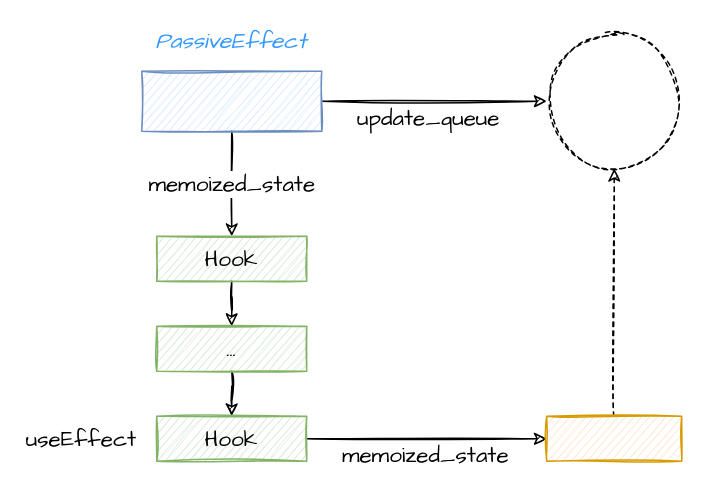
Image size: 708x495. Some labels were removed from this diagram. The centre of each missing label's shape, as x and y in pixels:
"Effect" goes at (x=613, y=438).
"FiberNode" goes at (x=231, y=100).
